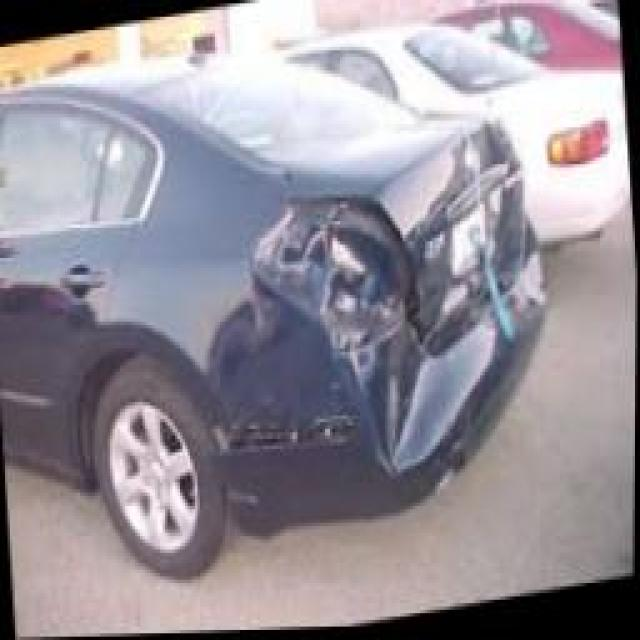Bumper: (328, 215, 544, 496)
Dickey: (279, 108, 525, 362)
Fender: (179, 282, 401, 543)
Light: (245, 196, 410, 365)
